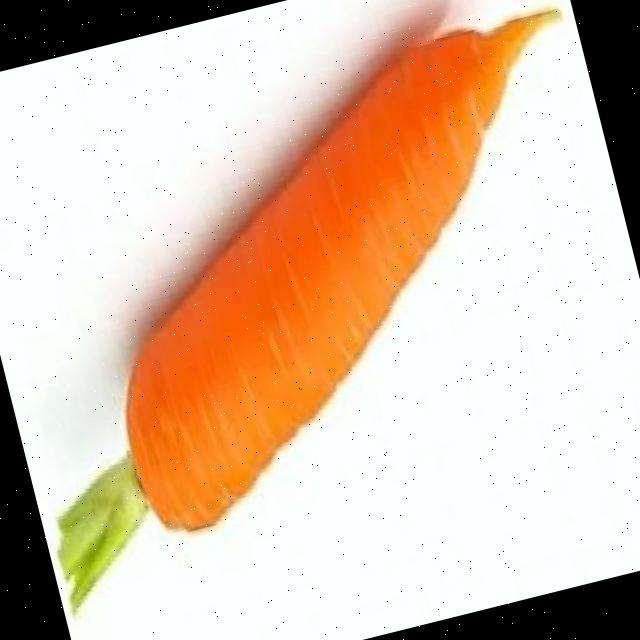carrot: (57, 9, 558, 612)
